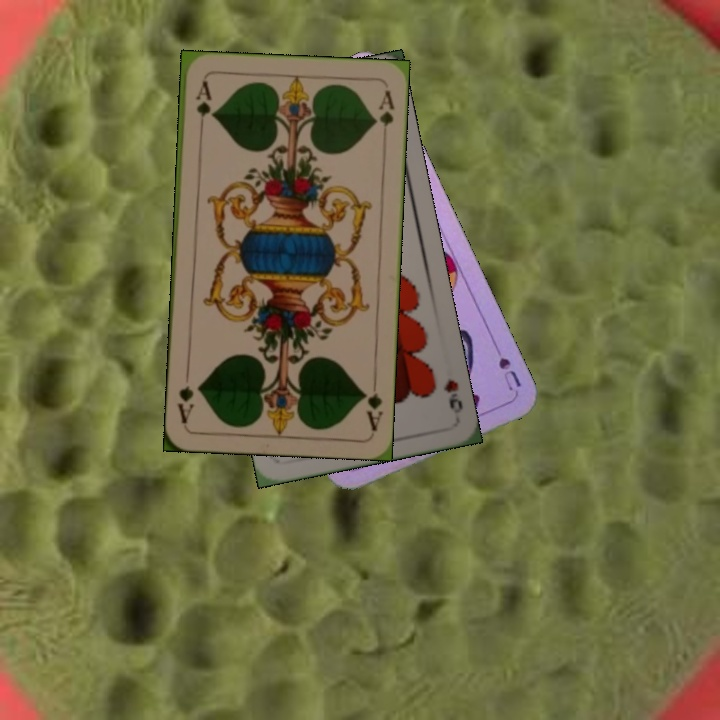GA: (359, 374, 385, 433), (191, 76, 213, 135)
H9: (439, 374, 466, 416)
SU: (488, 336, 524, 394)
